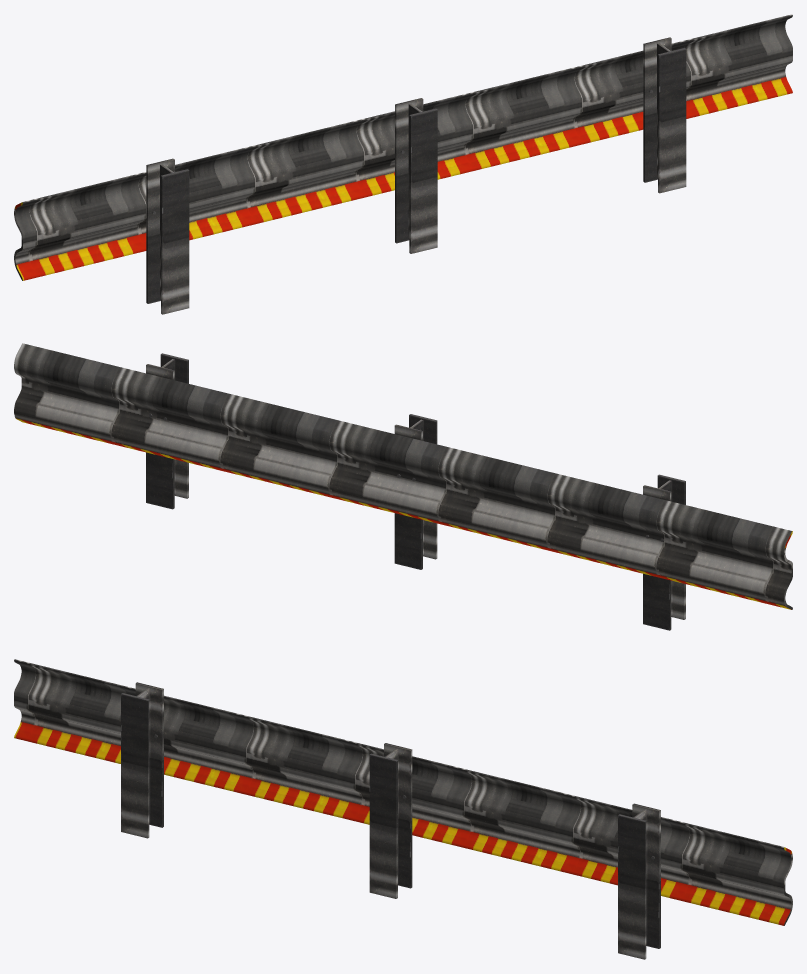
Rendered from Rail 17.FBX.
3 views of the same model, one above another, from view 1: azimuth 30°, elevation 25°; view 2: azimuth 150°, elevation 25°; view 3: azimuth 330°, elevation 25° (orthographic).
Visible parts, largest first — view 1: guardrail_small; view 2: guardrail_small; view 3: guardrail_small.
Boxes of the visible parts, <box> form: guardrail_small: <box>14,14,792,314</box>; guardrail_small: <box>14,343,792,630</box>; guardrail_small: <box>14,659,792,959</box>.
Bounding box in the file's own units: 589 × 101 × 33.42.
